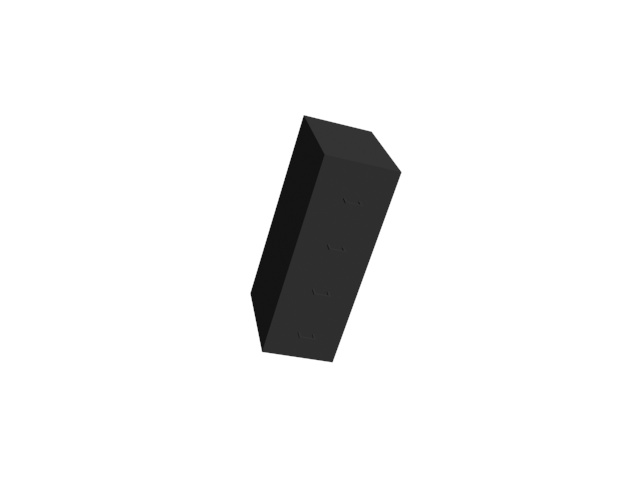file_cabinet: (249, 113, 408, 368)
